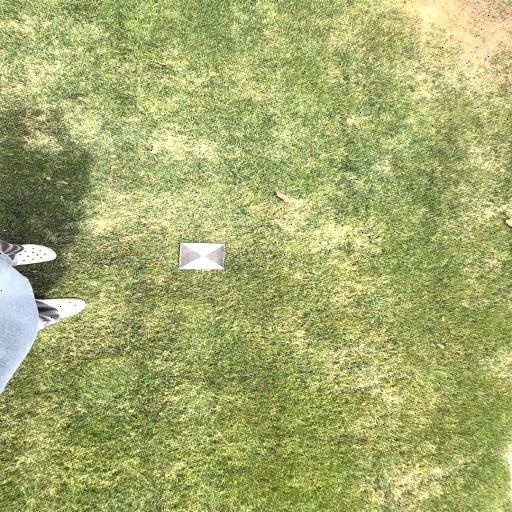target: (180, 243, 226, 270)
